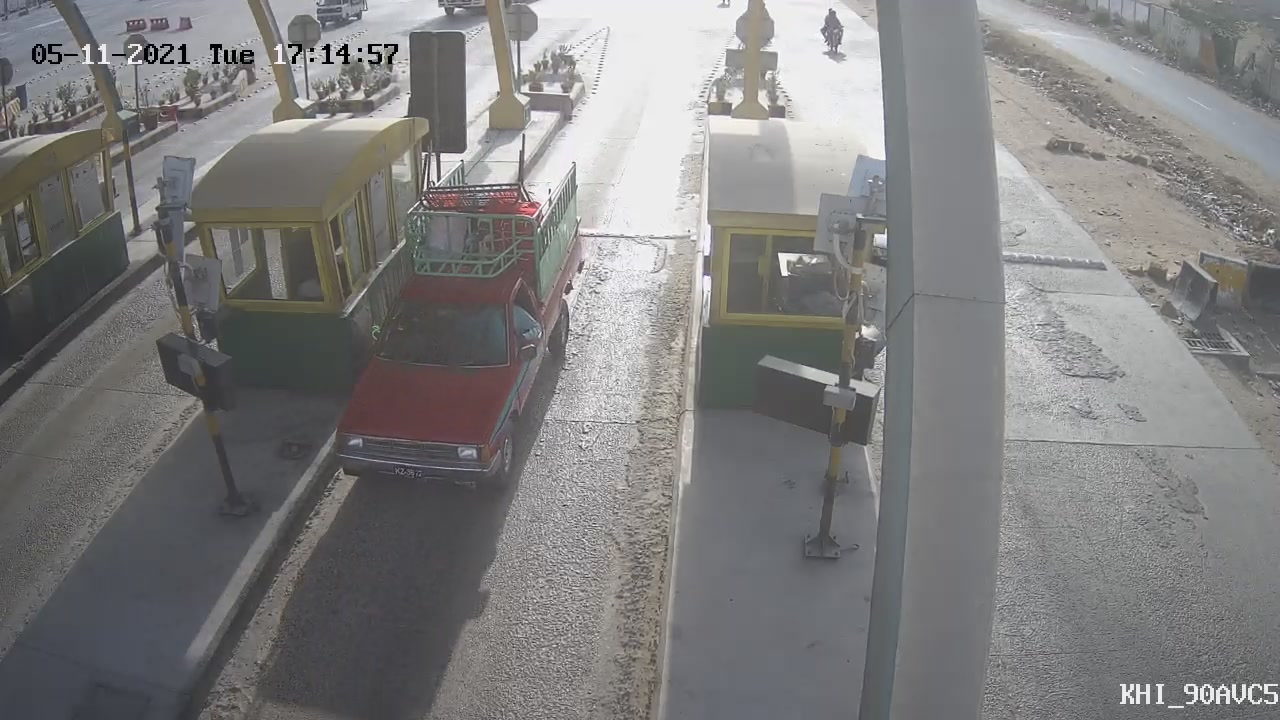F1: (305, 143, 603, 511)
